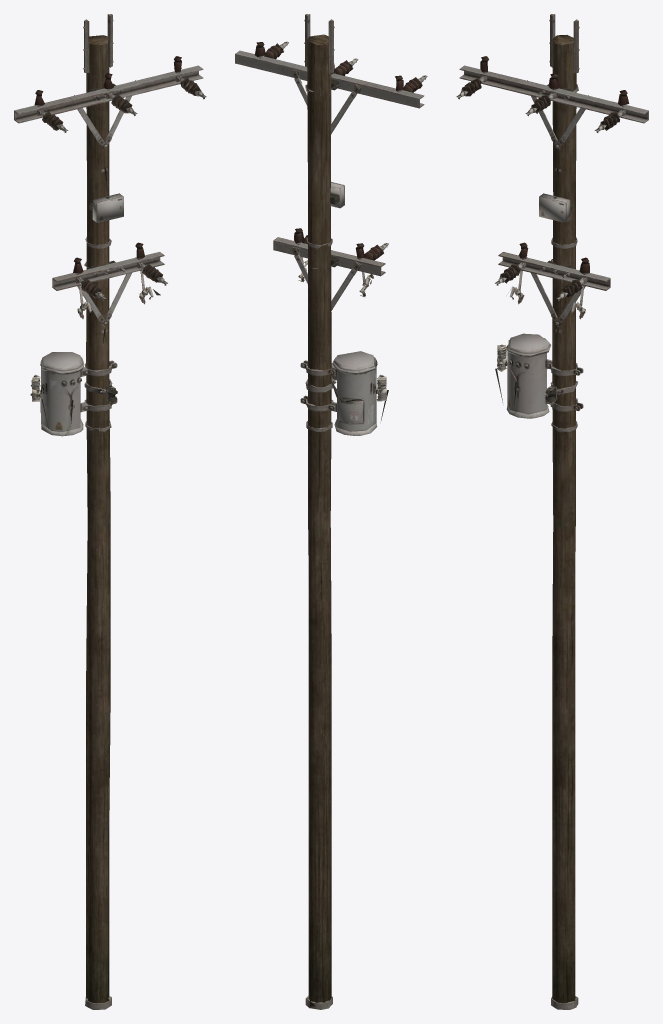
Rendered from pole.glb.
The picture shows the model from 3 angles, left to right: view 1: azimuth 30°, elevation 25°; view 2: azimuth 150°, elevation 25°; view 3: azimuth 330°, elevation 25°; orthographic projection.
Visible parts, largest first — view 1: preset_01_pole, preset_01_cap; view 2: preset_01_pole, preset_01_cap; view 3: preset_01_pole, preset_01_cap.
Boxes of the visible parts, x1,y1,x2,y2 form: preset_01_pole: (86, 35, 110, 1002); preset_01_cap: (14, 14, 206, 1009); preset_01_pole: (307, 34, 331, 1006); preset_01_cap: (235, 14, 427, 1009); preset_01_pole: (552, 35, 576, 1003); preset_01_cap: (456, 14, 648, 1009).
Bounding box in the file's own units: 1.2 × 6.13 × 0.5582.
Materials: 2 (2 with a texture image).
